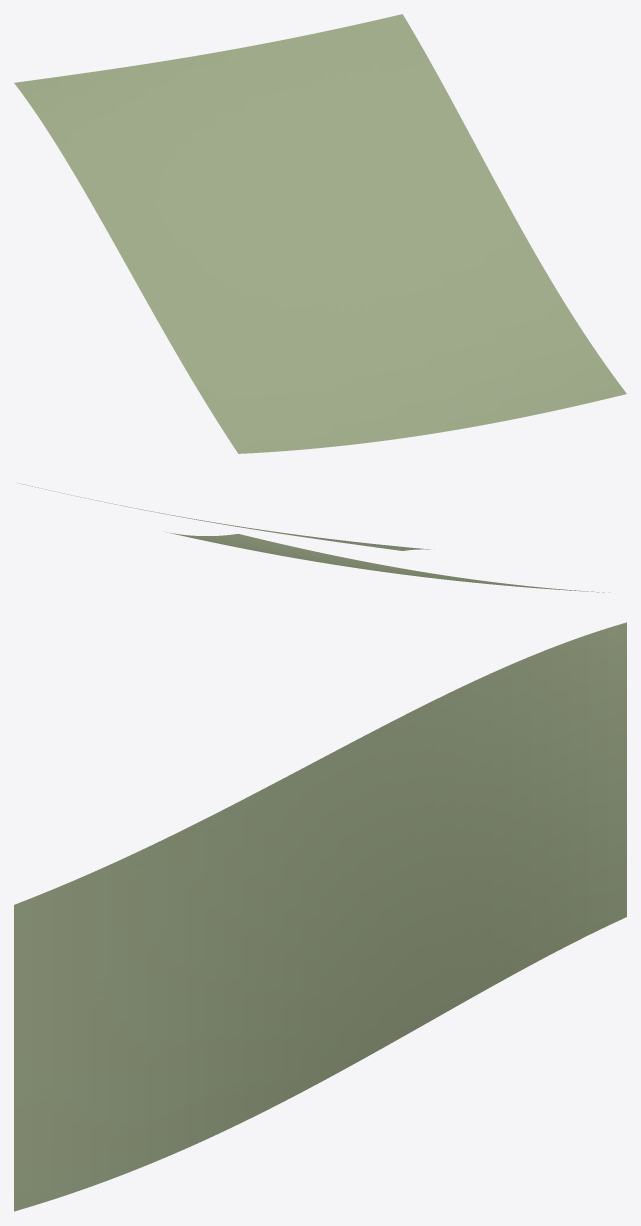
File: expanse-24-22.glb
3 renders of one model, top to bottom at view 1: azimuth 30°, elevation 25°; view 2: azimuth 150°, elevation 25°; view 3: azimuth 270°, elevation 25°, orthographic. The views are drawn at different scales.
Parts seen in each view (by area): view 1: expanse-24-22; view 2: expanse-24-22; view 3: expanse-24-22.
Part boxes in pixels (box(x1,y1,x2,y2)): expanse-24-22: box(14, 14, 626, 453); expanse-24-22: box(19, 483, 609, 592); expanse-24-22: box(14, 622, 626, 1211).
Bounding box in the file's own units: 256 × 152 × 256.
